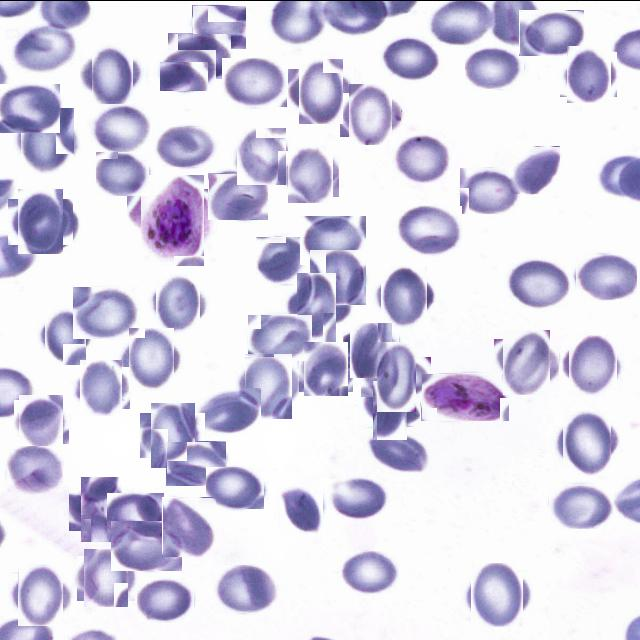difficult: (421, 372, 509, 420)
red blood cell: (17, 110, 77, 170), (111, 520, 182, 570), (468, 564, 527, 624), (73, 286, 138, 338), (240, 357, 298, 414), (558, 414, 616, 471), (222, 58, 287, 108), (162, 496, 216, 556), (396, 205, 462, 254), (300, 215, 366, 264), (11, 24, 78, 72), (498, 334, 554, 391), (12, 193, 68, 249), (310, 248, 366, 304), (368, 348, 424, 404), (377, 268, 432, 324), (215, 564, 279, 612), (247, 313, 312, 360), (196, 387, 261, 434), (145, 407, 200, 462), (565, 337, 620, 392), (294, 62, 348, 118), (519, 9, 584, 55), (548, 482, 613, 528), (507, 259, 569, 307), (124, 332, 179, 386), (0, 83, 60, 132), (86, 48, 140, 102), (235, 128, 289, 182), (290, 280, 344, 334), (74, 482, 128, 536), (13, 568, 67, 622), (168, 32, 231, 78), (90, 102, 150, 150), (152, 276, 205, 330), (575, 253, 637, 299), (392, 134, 451, 182), (208, 172, 268, 219), (459, 166, 519, 213), (344, 88, 397, 140), (364, 431, 430, 472), (284, 147, 336, 199), (80, 552, 132, 604), (166, 440, 226, 485), (7, 445, 63, 492), (338, 550, 399, 593), (107, 492, 164, 538), (563, 48, 614, 99), (154, 126, 218, 166), (380, 36, 439, 79), (40, 310, 90, 360), (76, 362, 126, 412), (257, 234, 307, 284), (301, 344, 351, 394), (346, 324, 396, 374), (465, 46, 524, 88), (17, 396, 66, 446), (136, 578, 194, 620), (95, 150, 149, 195), (510, 145, 560, 193), (159, 48, 216, 90), (207, 466, 264, 508), (192, 4, 246, 48), (278, 486, 325, 533), (366, 386, 414, 432), (330, 478, 388, 516)
schizont: (134, 181, 211, 259)
